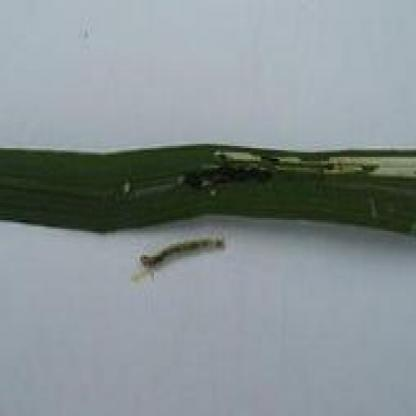leaf-folder: (123, 223, 235, 288)
